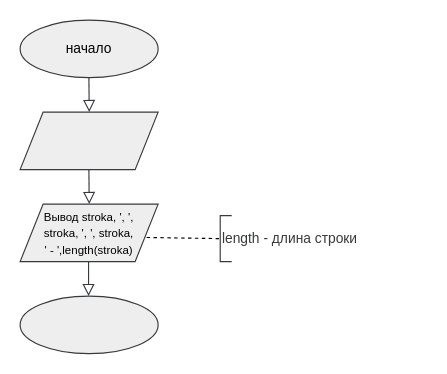
The diagram is 447 pixels wide and 374 high, and some of its shapes have lost their labels. The shapes that lost their labels are listed below. From the top down, each one's box as (x1, y1, x2, y2) in pixels, then its label:
(19, 111, 158, 170): Считать введенную строку и сохранить в переменной stroka
(19, 295, 158, 354): конец
